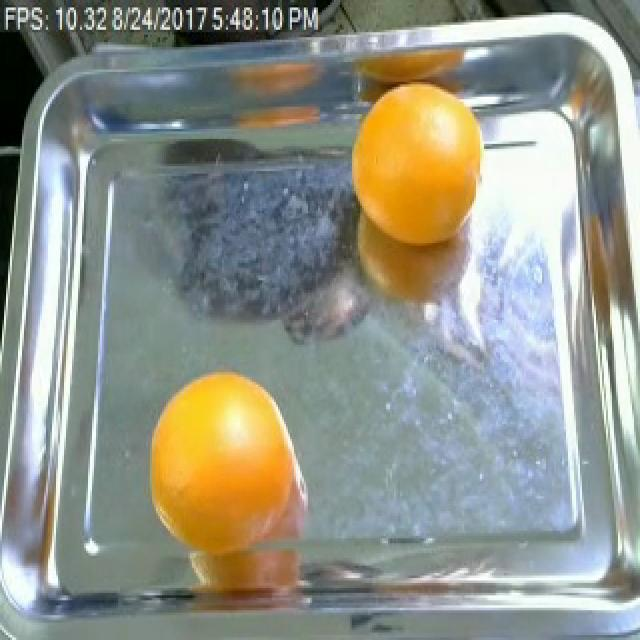Fruit: (332, 59, 498, 268), (138, 360, 304, 553)
